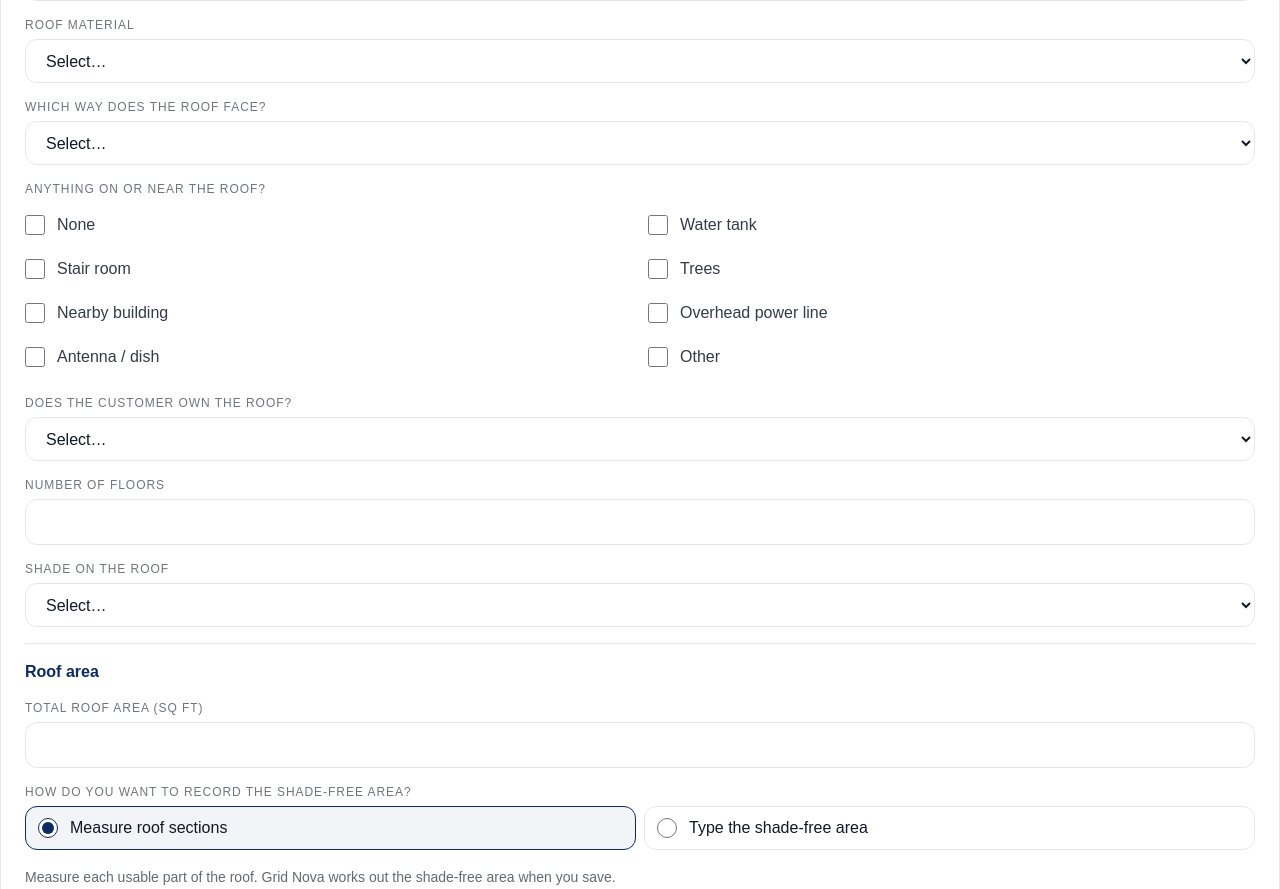
Test: house step: roof survey › asks for the tenant NOC only when the roof is not owned
(page scrolled)
Expected: the field labelled "Is there a NOC from the roof owner?" is not shown
Select "No" in the dropdown labelled "Does the customer own the roof?" at [640, 439], box x1=25 y1=417 x2=1255 y2=461
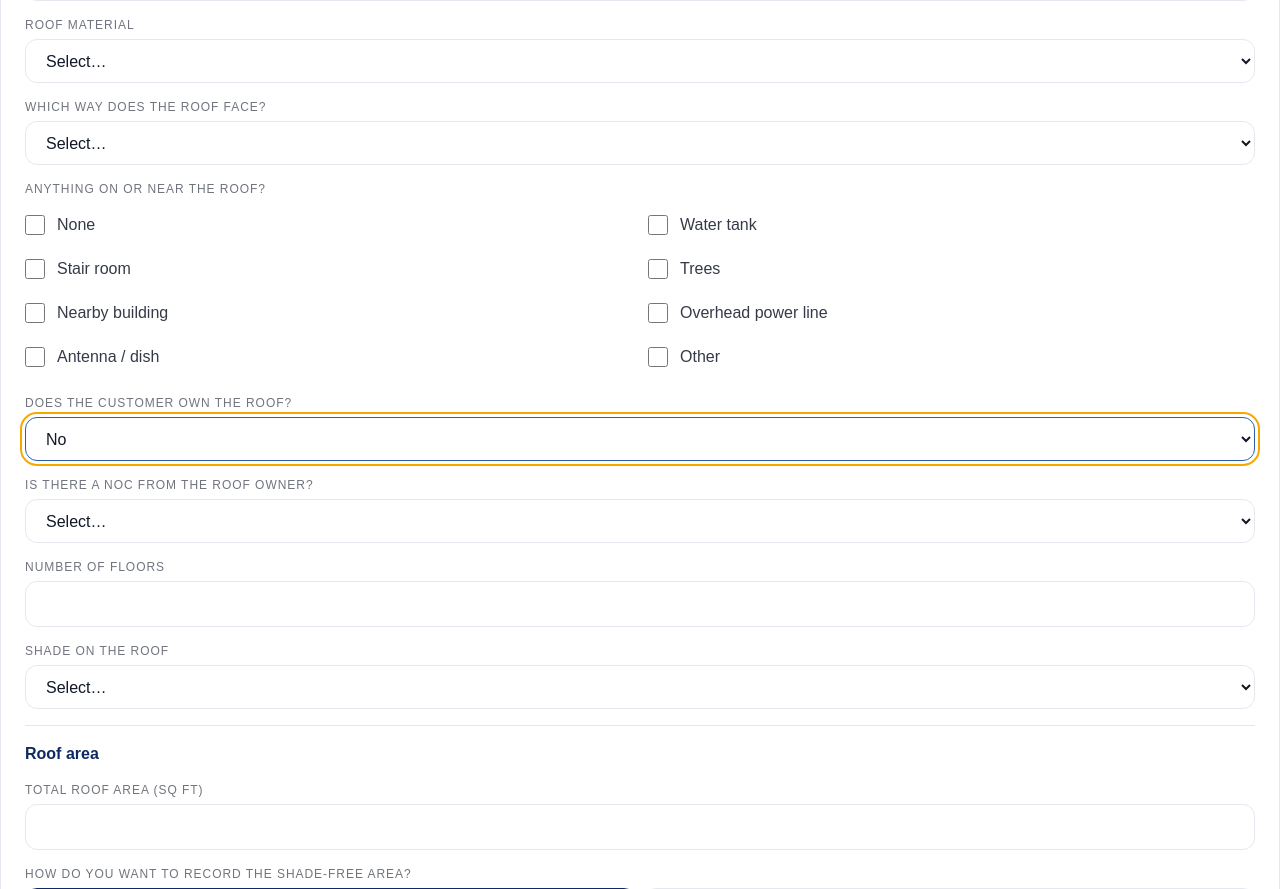
Expected: the dropdown labelled "Is there a NOC from the roof owner?" is shown, x1=25 y1=499 x2=1255 y2=543
Select "Yes" in the dropdown labelled "Does the customer own the roof?" at [640, 439], box x1=25 y1=417 x2=1255 y2=461
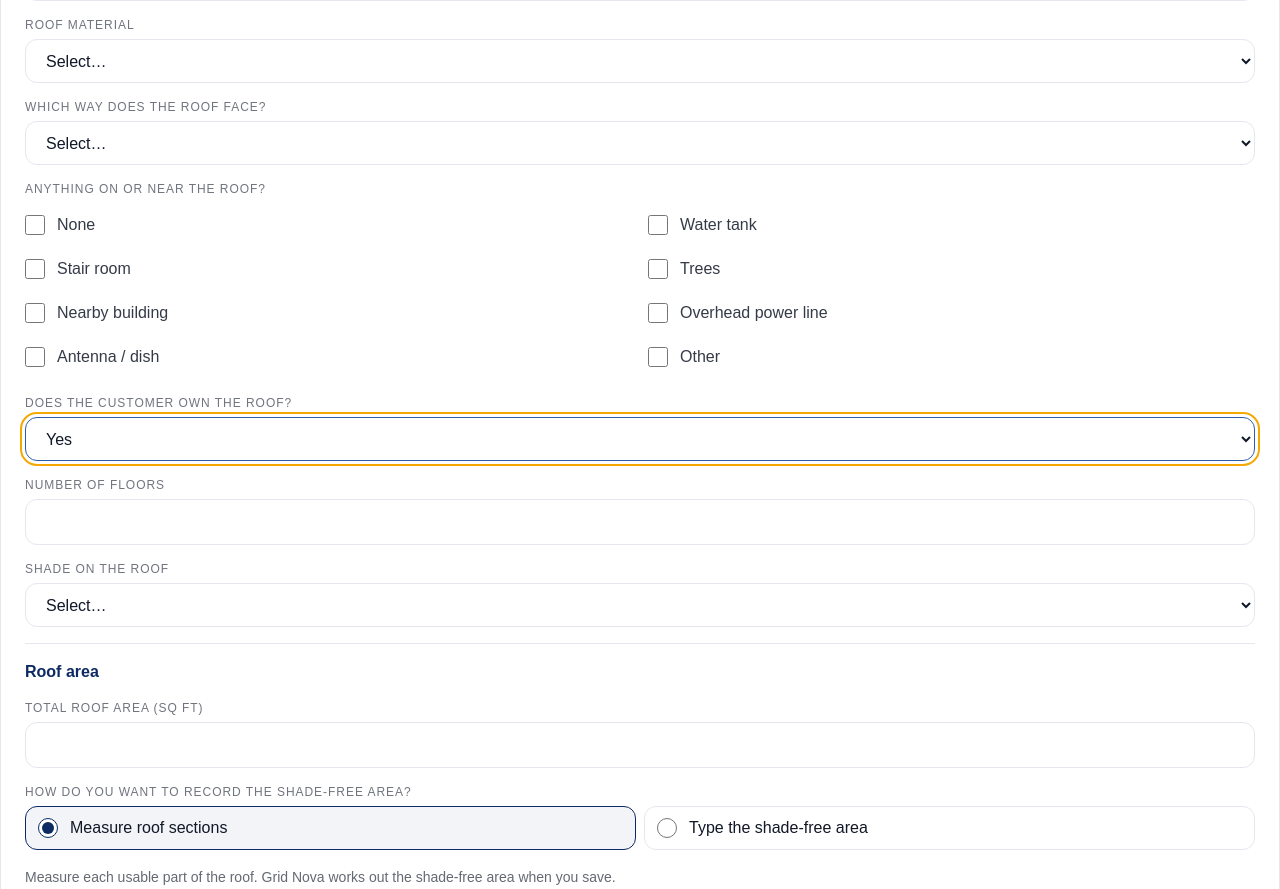
Expected: the label labelled "Is there a NOC from the roof owner?" is gone
